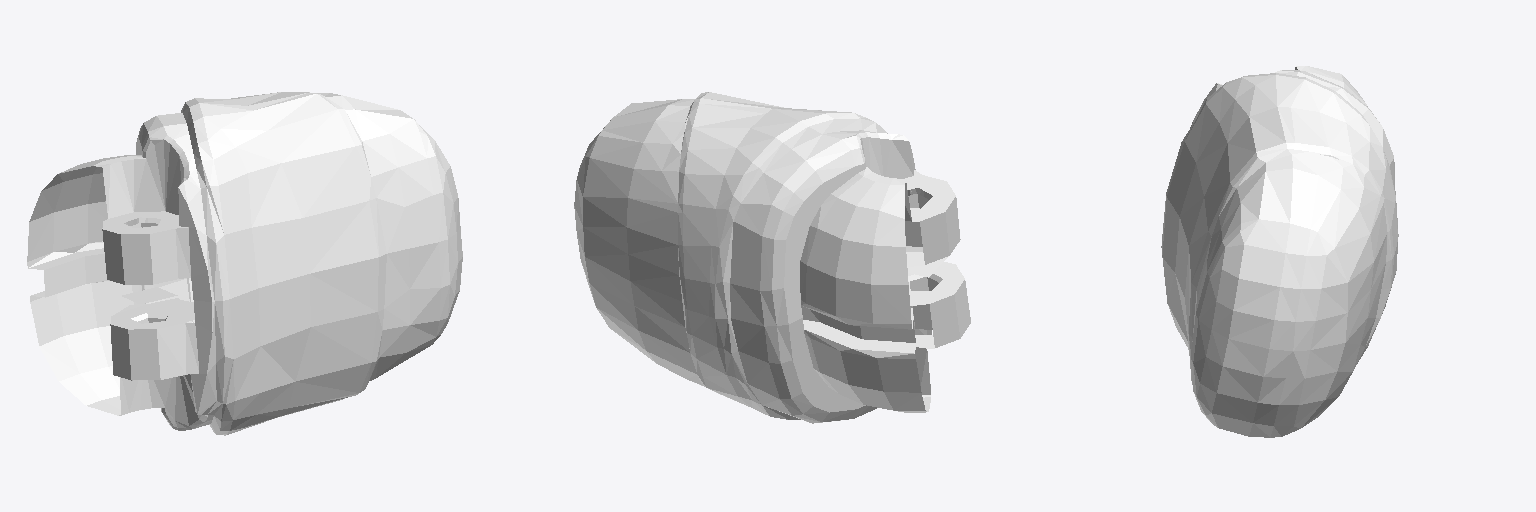
3 views of the same model, side by side, from view 1: azimuth 30°, elevation 25°; view 2: azimuth 150°, elevation 25°; view 3: azimuth 270°, elevation 25° (orthographic).
Parts seen in each view (by area): view 1: LFinger23_LPhalax_6; view 2: LFinger23_LPhalax_6; view 3: LFinger23_LPhalax_6.
Boxes of the visible parts, box(x1,y1,x2,y2) form: LFinger23_LPhalax_6: box(27, 92, 462, 435); LFinger23_LPhalax_6: box(574, 92, 970, 423); LFinger23_LPhalax_6: box(1161, 66, 1398, 437).
Bounding box in the file's own units: 0.204 × 0.1614 × 0.1121.
1 materials, 1 textured.